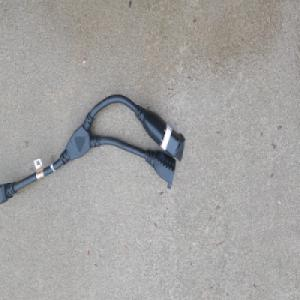Wire: (0, 93, 185, 206)
